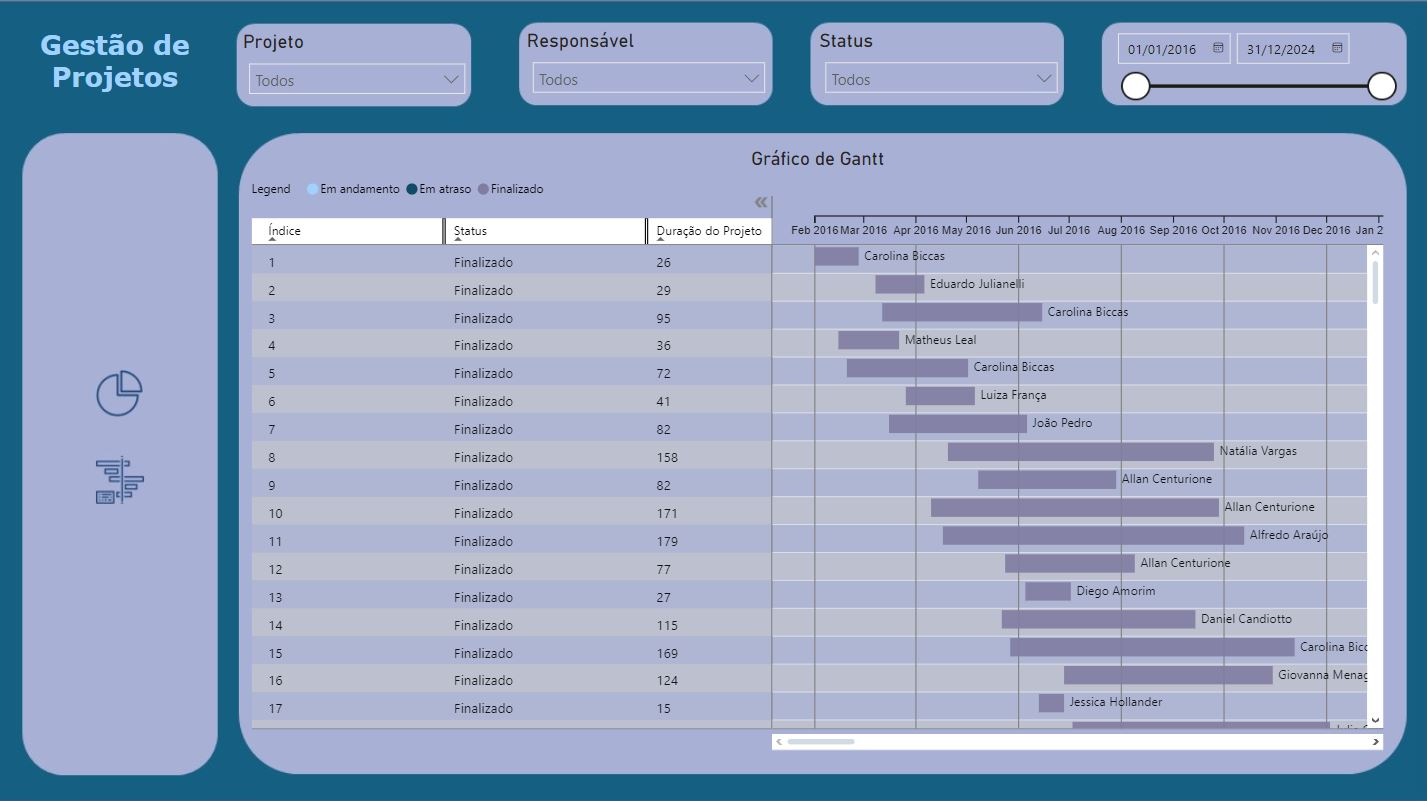

The page's visual inventory and layout, read from the dashboard file:
{"tool":"powerbi","page":{"name":"Gantt","canvas":[1280,720],"ordinal":1},"visuals":[{"type":"GanttChartByMAQSoftware1448688115701","title":"Gráfico de Gantt","fields":{"StartDate":["Projetos.Data Início"],"EndDate":["Projetos.Data Termino"],"Resource":["Projetos.Responsável"],"Legend":["Projetos.Status"],"Category":["Projetos.Índice","Projetos.Status","Projetos.Duração do Projeto"]},"box":[220,133.8,1023.8,545],"z":0},{"type":"slicer","title":"Responsável","fields":{"Values":["Projetos.Responsável"]},"box":[466.2,27.5,228.8,67.5],"z":1000},{"type":"slicer","title":"Status","fields":{"Values":["Projetos.Status"]},"box":[728.8,27.5,228.8,68.8],"z":2000},{"type":"slicer","fields":{"Values":["dCalendario.Date"]},"box":[988.8,21.2,270,77.5],"z":3000},{"type":"slicer","title":"Projeto","fields":{"Values":["Projetos.Código Projeto"]},"box":[212.5,28.8,213.8,63.8],"z":4000},{"type":"textbox","box":[25,22.5,156.2,92.5],"z":5000},{"type":"actionButton","box":[53.8,327.5,100,55],"z":6000}]}

Visuals, with their boxes in screenshot pixels (x1, y1, x2, y2), scaled from the page's 1280x720 canvas onto the 1427x801 screenshot:
"Gráfico de Gantt" GanttChartByMAQSoftware1448688115701: left=245, top=149, right=1387, bottom=755
"Responsável" slicer: left=520, top=31, right=775, bottom=106
"Status" slicer: left=812, top=31, right=1068, bottom=107
slicer - dCalendario.Date: left=1102, top=24, right=1403, bottom=110
"Projeto" slicer: left=237, top=32, right=475, bottom=103
textbox: left=28, top=25, right=202, bottom=128
actionButton: left=60, top=364, right=171, bottom=426
